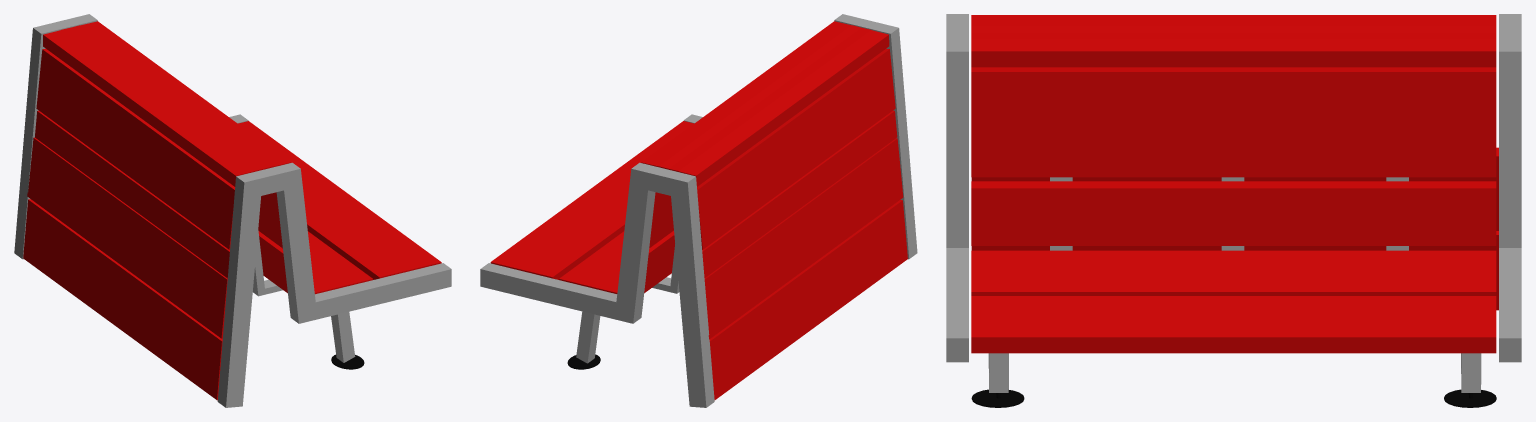
The model's file is chair_back.fbx.
3 views of the same model, side by side, from view 1: azimuth 30°, elevation 25°; view 2: azimuth 150°, elevation 25°; view 3: azimuth 270°, elevation 25° (orthographic). The views are drawn at different scales.
Visible parts, largest first — view 1: Chair_back; view 2: Chair_back; view 3: Chair_back.
Part boxes in pixels (x1,y1,x2,y2): Chair_back: (14, 14, 451, 407); Chair_back: (480, 14, 917, 407); Chair_back: (946, 14, 1521, 407).
Size of the model in its own units: 161 by 153 by 261.
